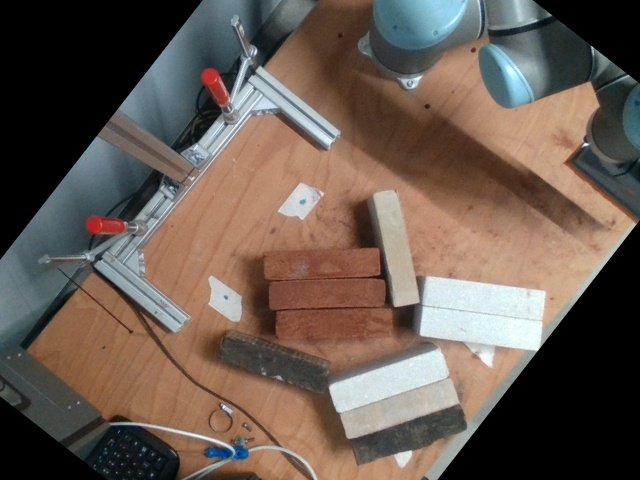brick-side: (332, 351, 445, 410), (343, 380, 456, 438), (214, 337, 327, 393), (354, 407, 467, 462), (373, 191, 418, 304), (425, 309, 538, 347), (427, 280, 541, 317), (266, 251, 378, 276), (278, 311, 390, 336), (271, 280, 382, 305)
